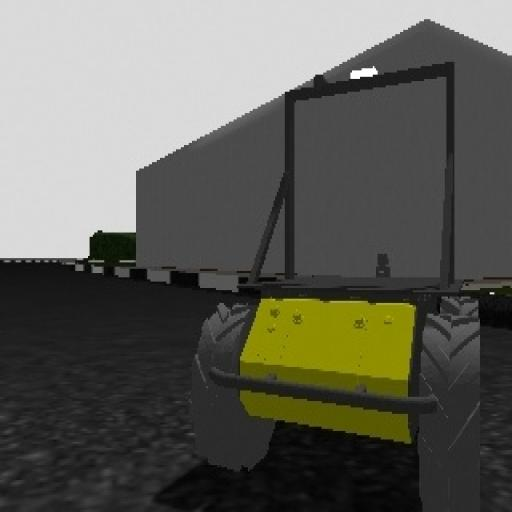huskya200: (188, 60, 486, 512)
